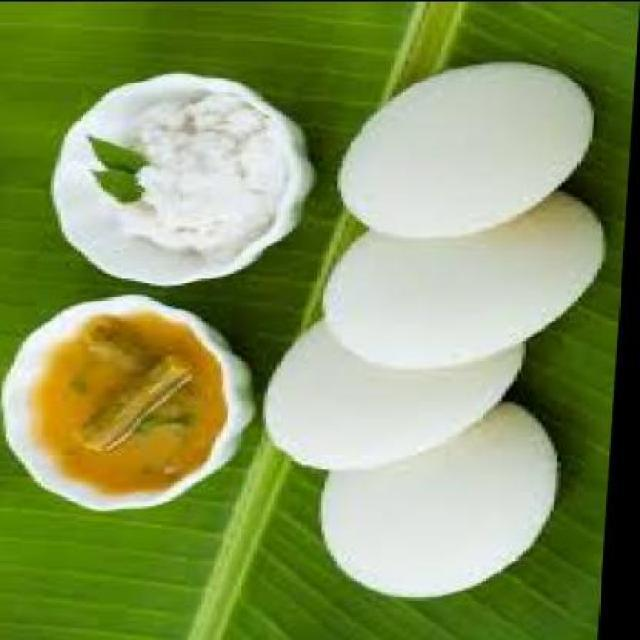idli: (324, 188, 610, 367), (323, 402, 568, 596), (339, 61, 596, 237), (266, 317, 532, 468)
